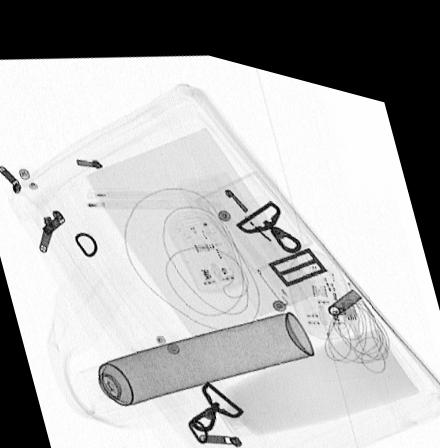Sprayer: (74, 294, 313, 408)
